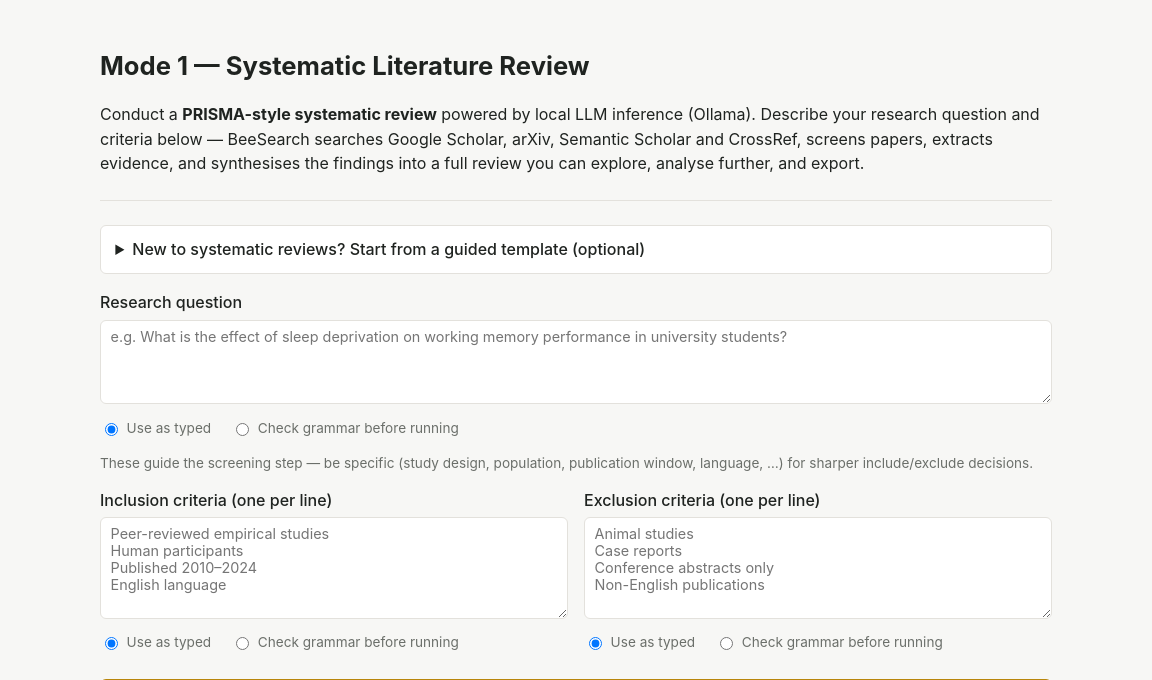
SystematicReviewPage › shows a job-error result as a workflow error line
The image size is (1152, 680).
Type "q" into the text box labelled "Research question" at (576, 362), box [100,320,1052,404]
(page scrolled)
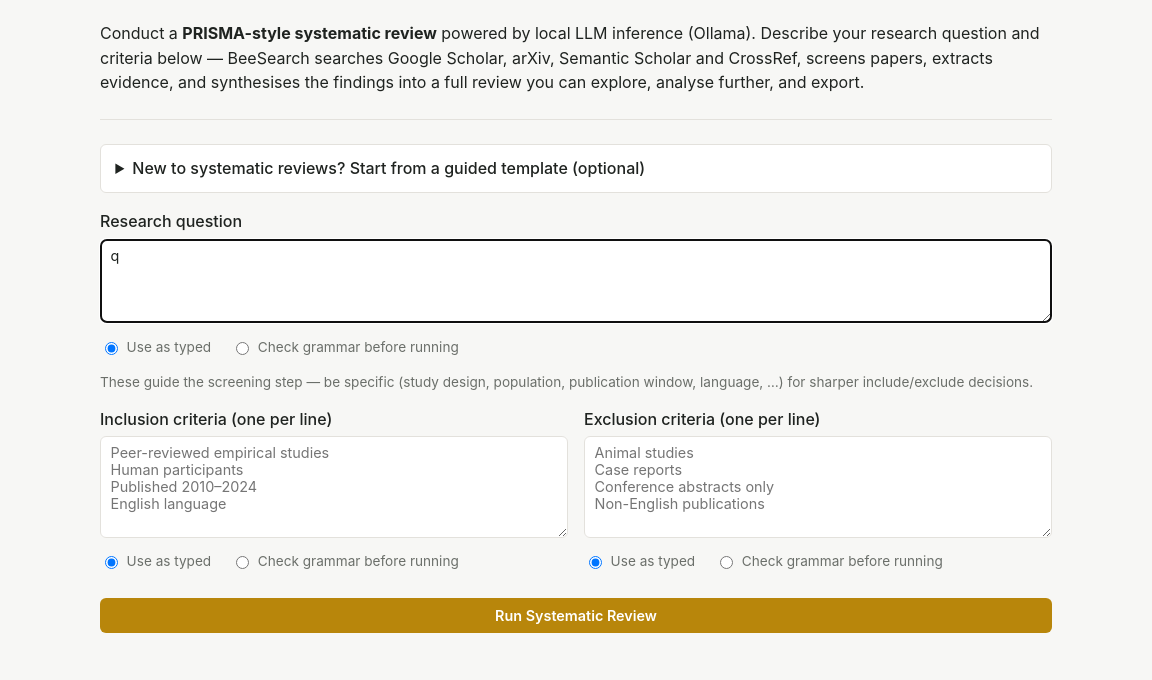
Click the button "Run Systematic Review" at (576, 616), box [100,598,1052,633]
(page scrolled)
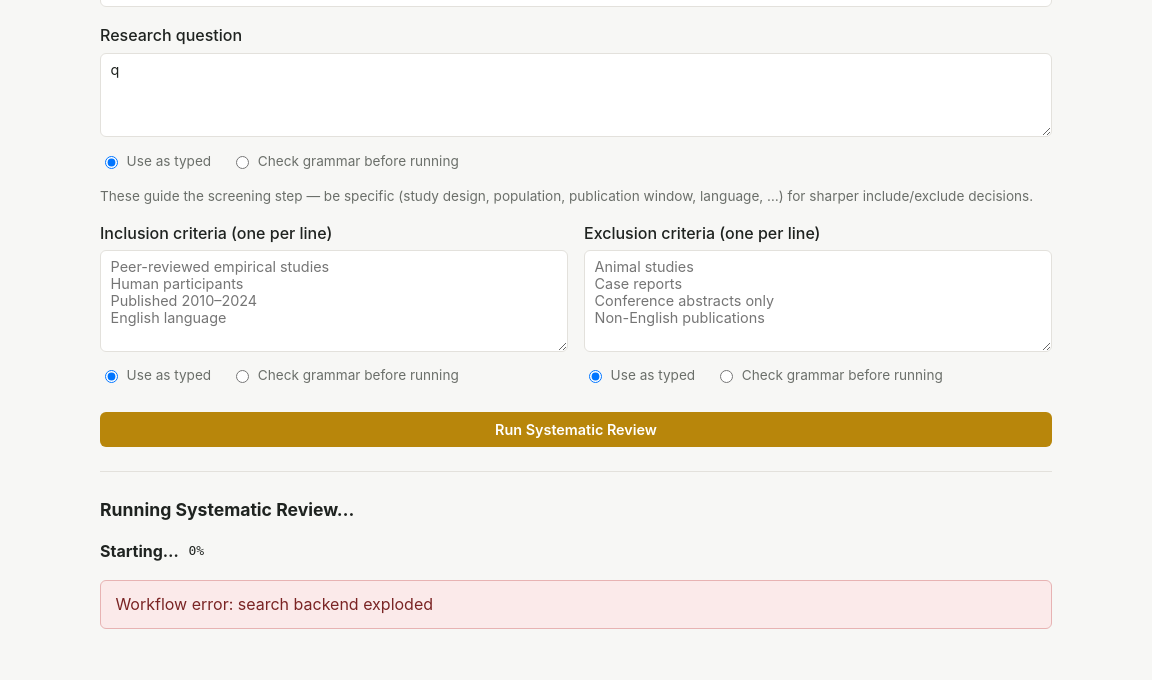
Check: the text "Workflow error: search backend exploded" is shown, box [100,580,1052,629]
